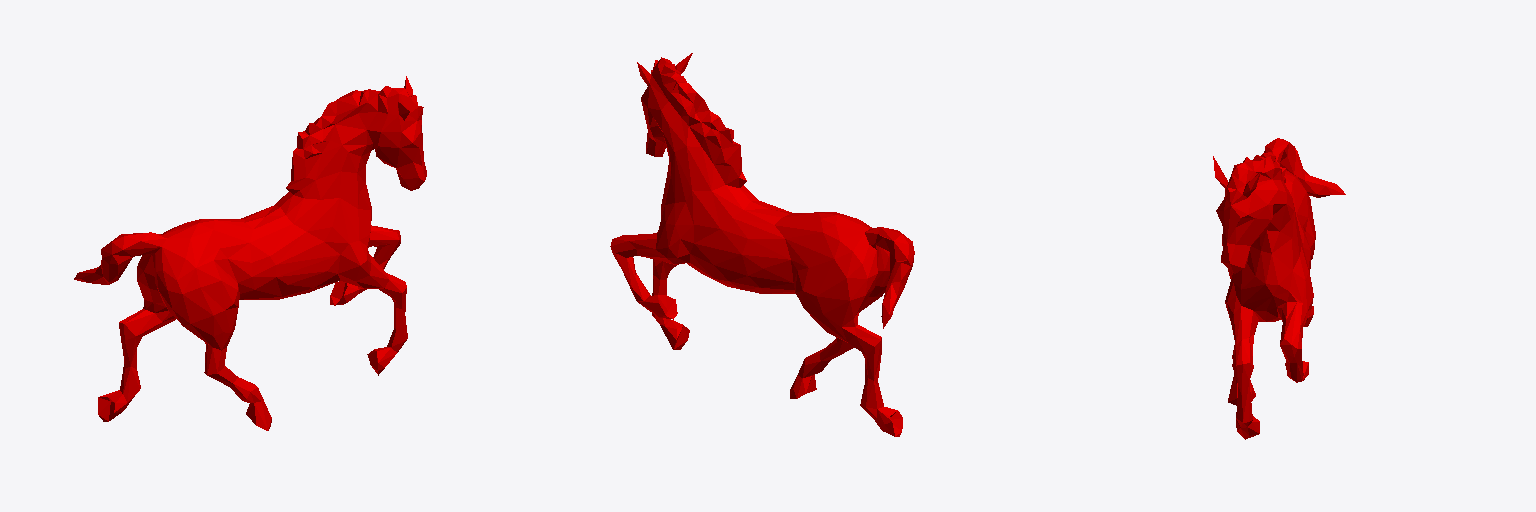
File: horse1.OBJ
3 renders of one model, left to right at view 1: azimuth 30°, elevation 25°; view 2: azimuth 150°, elevation 25°; view 3: azimuth 270°, elevation 25°, orthographic.
Visible parts, largest first — view 1: Group58245; view 2: Group58245; view 3: Group58245.
Part boxes in pixels (x1,y1,x2,y2): Group58245: (74, 76, 426, 430); Group58245: (610, 53, 914, 436); Group58245: (1213, 138, 1345, 439).
Size of the model in its own units: 2473 by 2420 by 956.